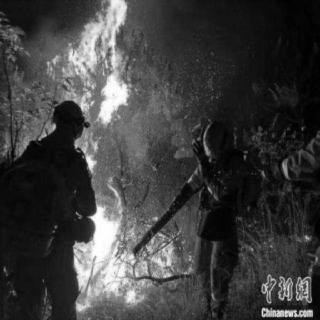Fire: (46, 5, 136, 127)
